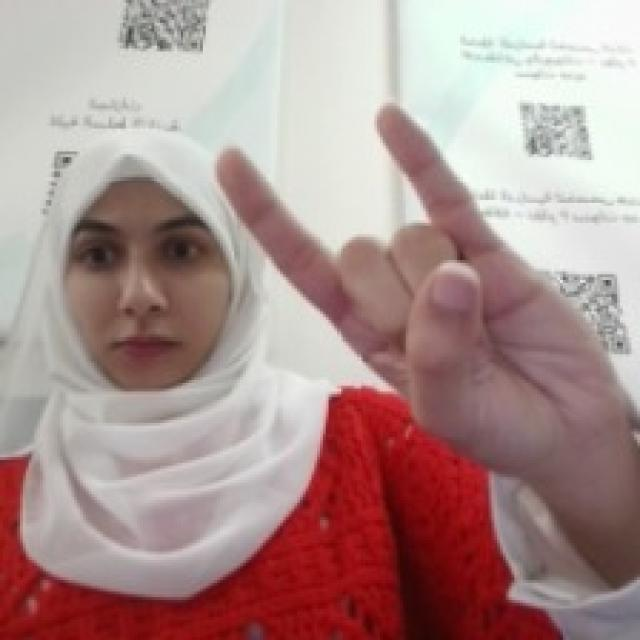No: (212, 89, 612, 454)
